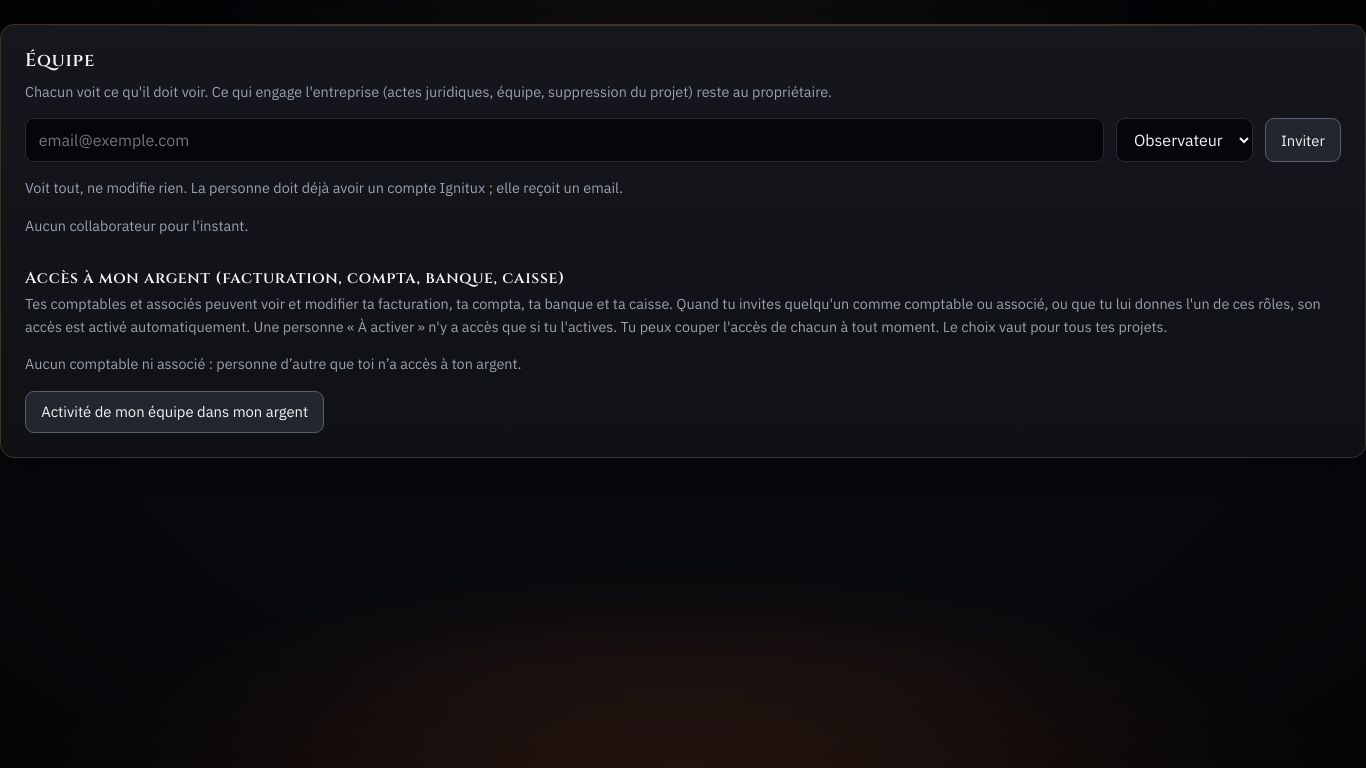
Test: CollaboratorsSection › invite un collaborateur par email
Expected: the text "Aucun collaborateur pour l'instant." is shown, [25,216,248,235]
In the field named "Email du collaborateur à ajouter": (565, 140) [25,118,1104,162], type "b@b.com"
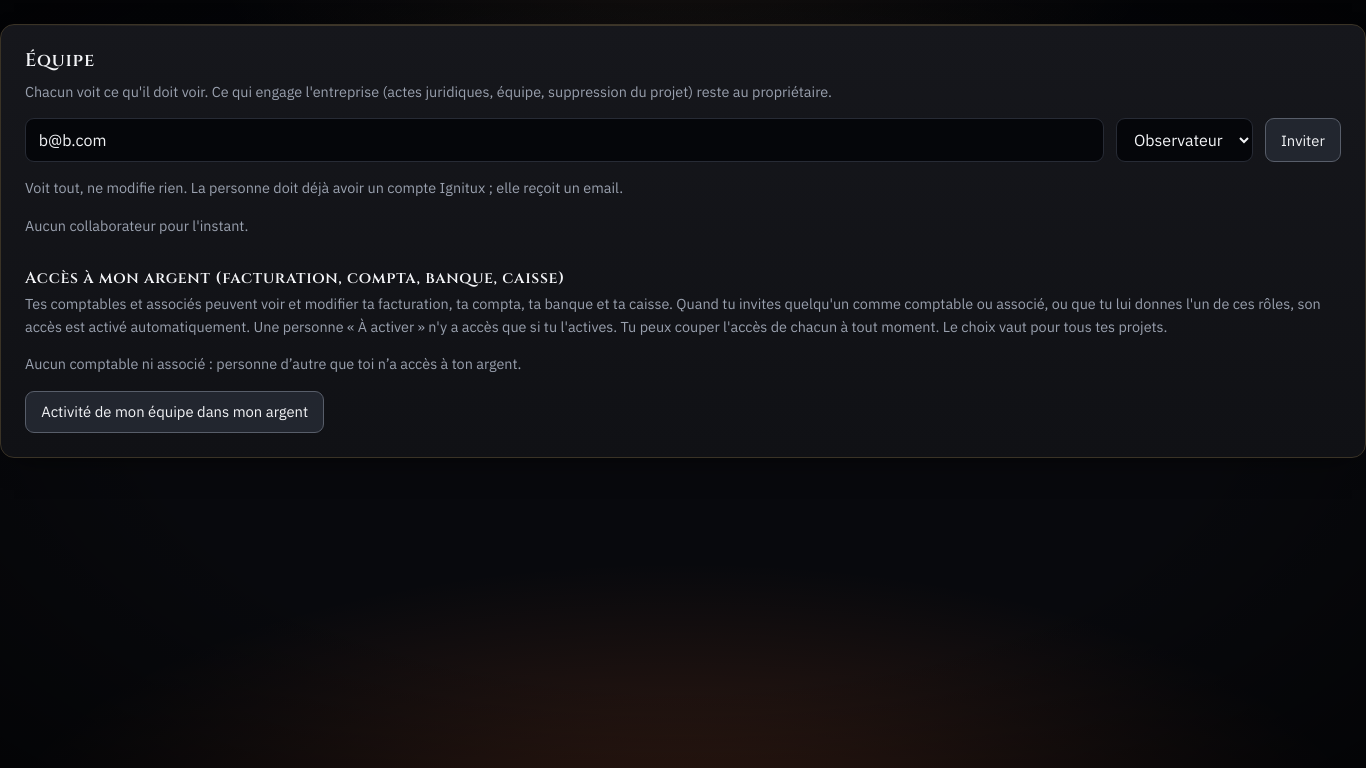
Click the button "Inviter": (1303, 140) [1265,118,1341,162]
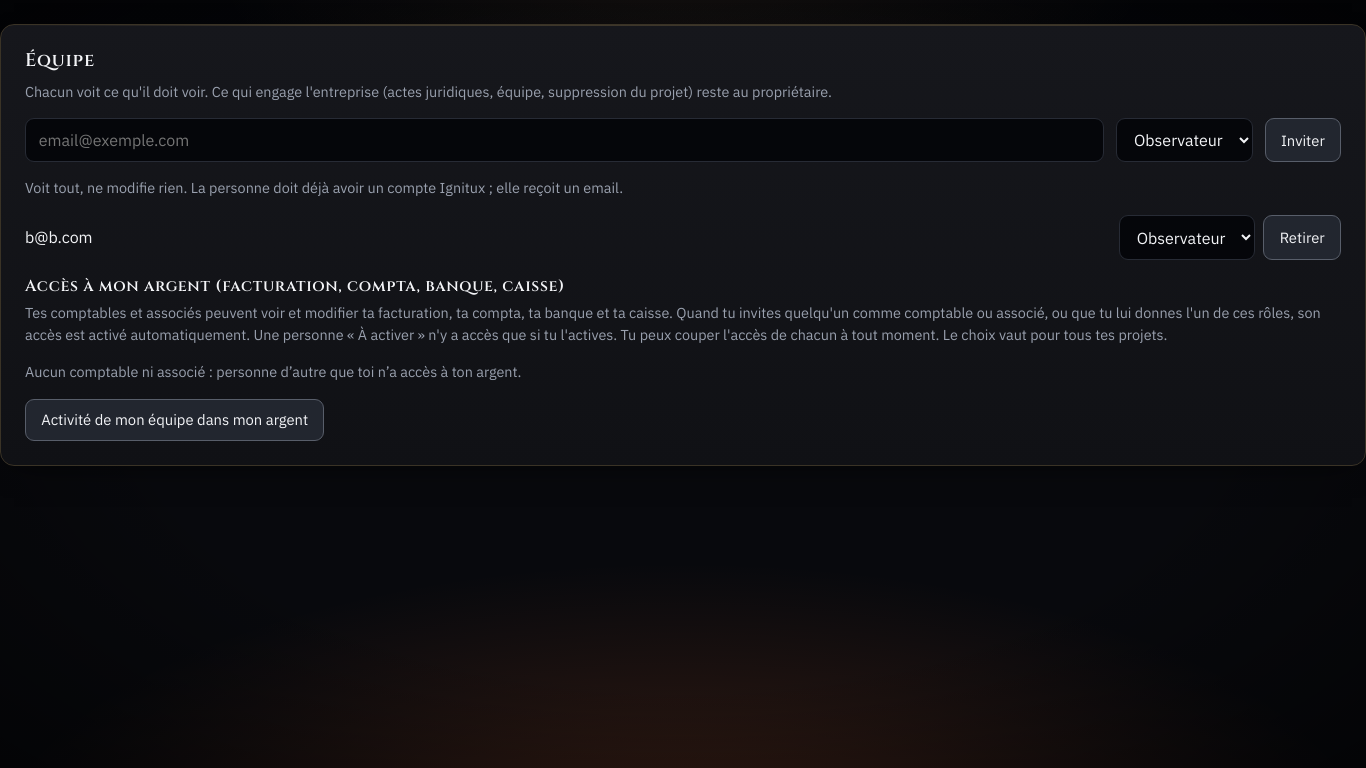
Expected: the text "b@b.com" is shown, [25,225,93,250]
